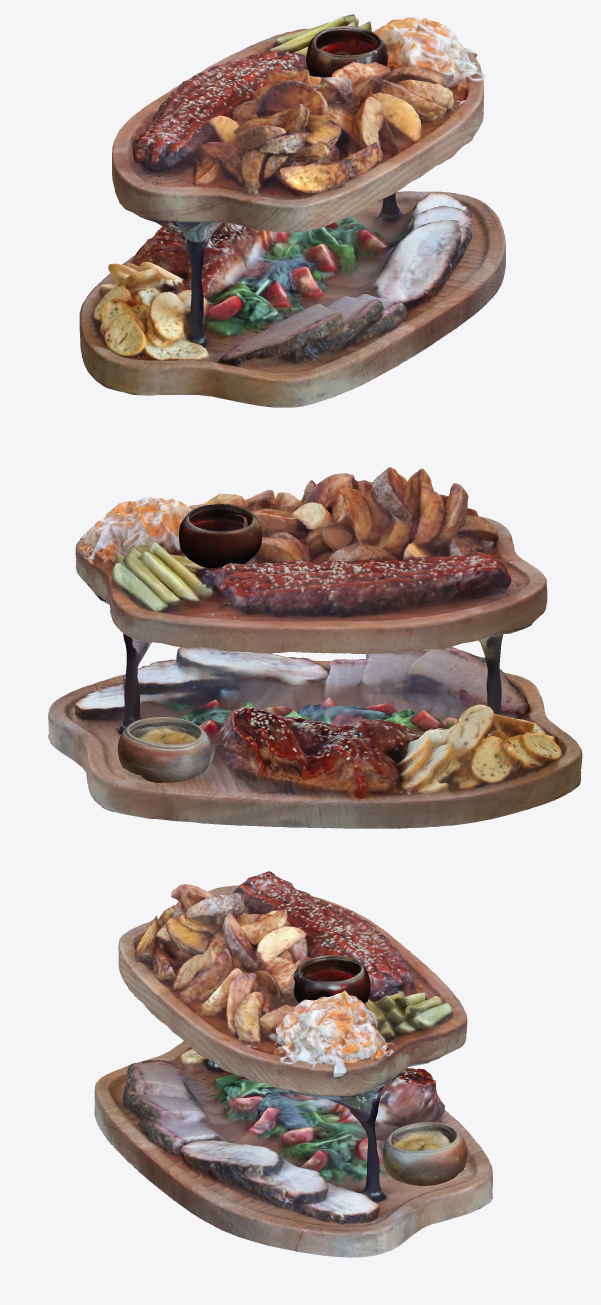
Rendered from set.meet.final.glb.
3 views of the same model, one above another, from view 1: azimuth 30°, elevation 25°; view 2: azimuth 150°, elevation 25°; view 3: azimuth 270°, elevation 25° (orthographic). The views are drawn at different scales.
Visible parts, largest first — view 1: object 1, world; view 2: object 1, world (×2); view 3: object 1, world (×2).
Part boxes in pixels (left/top/right/bottom): object 1: left=79, top=14, right=505, bottom=407; world: left=306, top=26, right=387, bottom=77; object 1: left=48, top=467, right=582, bottom=828; world (×2): left=117, top=504, right=261, bottom=782; object 1: left=94, top=871, right=492, bottom=1257; world (×2): left=293, top=955, right=467, bottom=1185.
Bounding box in the file's own units: 0.5498 × 0.2403 × 0.5077.
4 materials, 3 textured.
